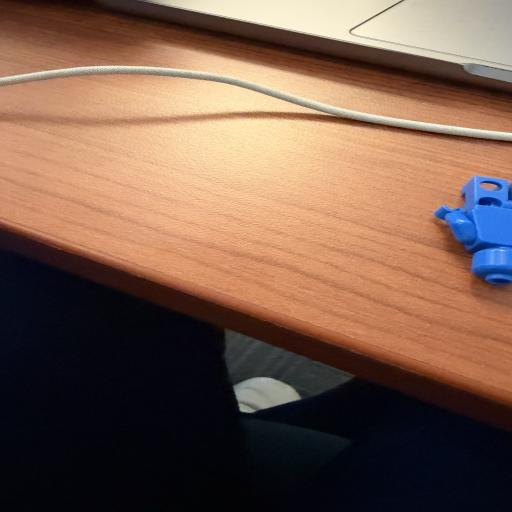Minifig: (433, 175, 512, 286)
